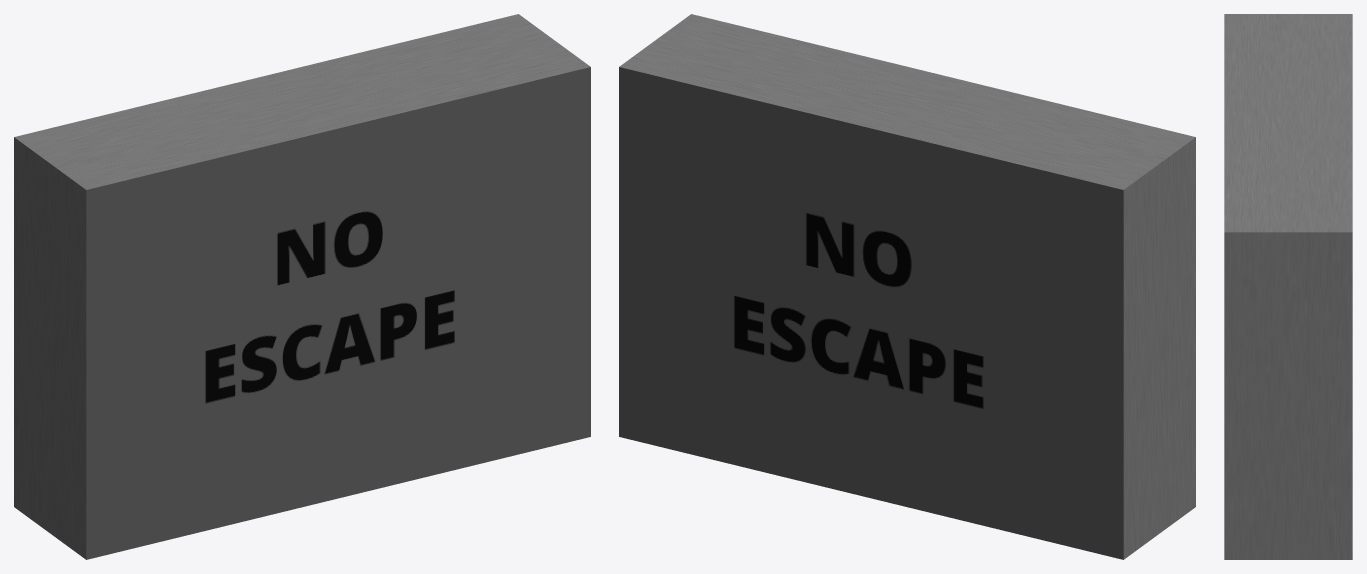
File: NoEscape.gltf
The picture shows the model from 3 angles, left to right: view 1: azimuth 30°, elevation 25°; view 2: azimuth 150°, elevation 25°; view 3: azimuth 270°, elevation 25°; orthographic projection. The views are drawn at different scales.
Visible parts, largest first — view 1: Cube.004; view 2: Cube.004; view 3: Cube.004.
Part boxes in pixels (x1,y1,x2,y2): Cube.004: (14, 14, 590, 559); Cube.004: (619, 14, 1195, 559); Cube.004: (1224, 14, 1352, 559).
Size of the model in its own units: 1.07 by 0.75 by 0.2658.
1 material, 1 textured.
